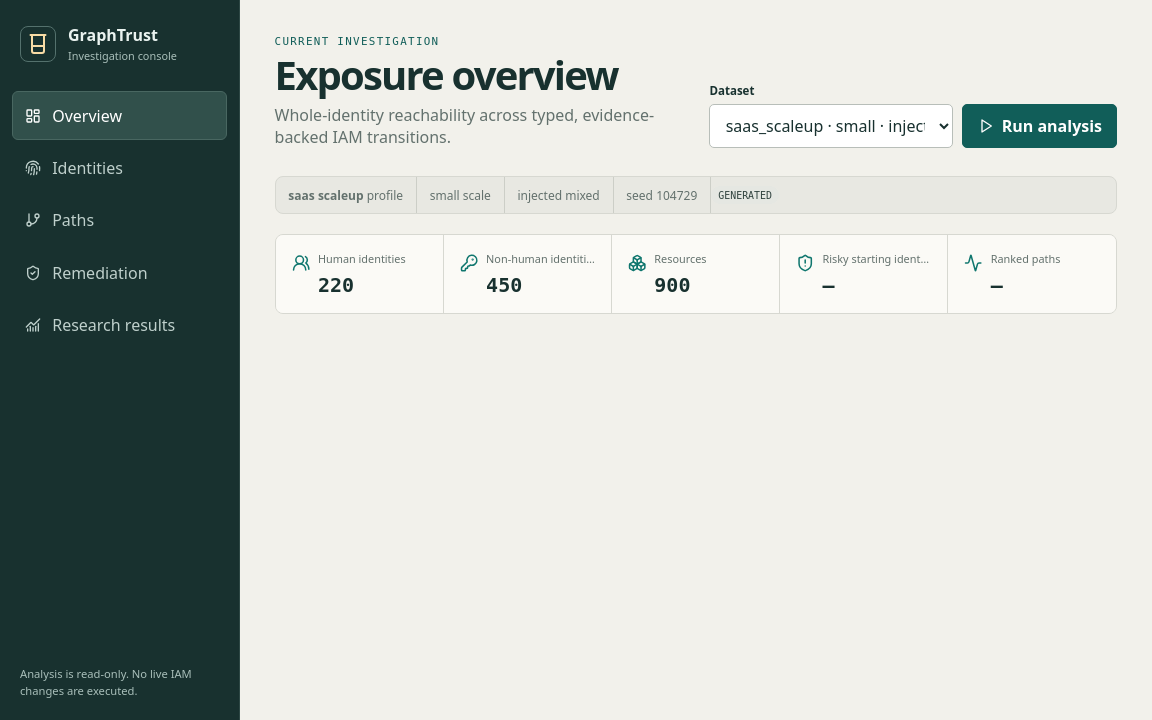
it: research results exposes a truthful empty state
Check: the heading "Exposure overview" is shown, box [274,47,618,102]
Click the button "Research results". click: (120, 325)
box: [12,301,227,349]
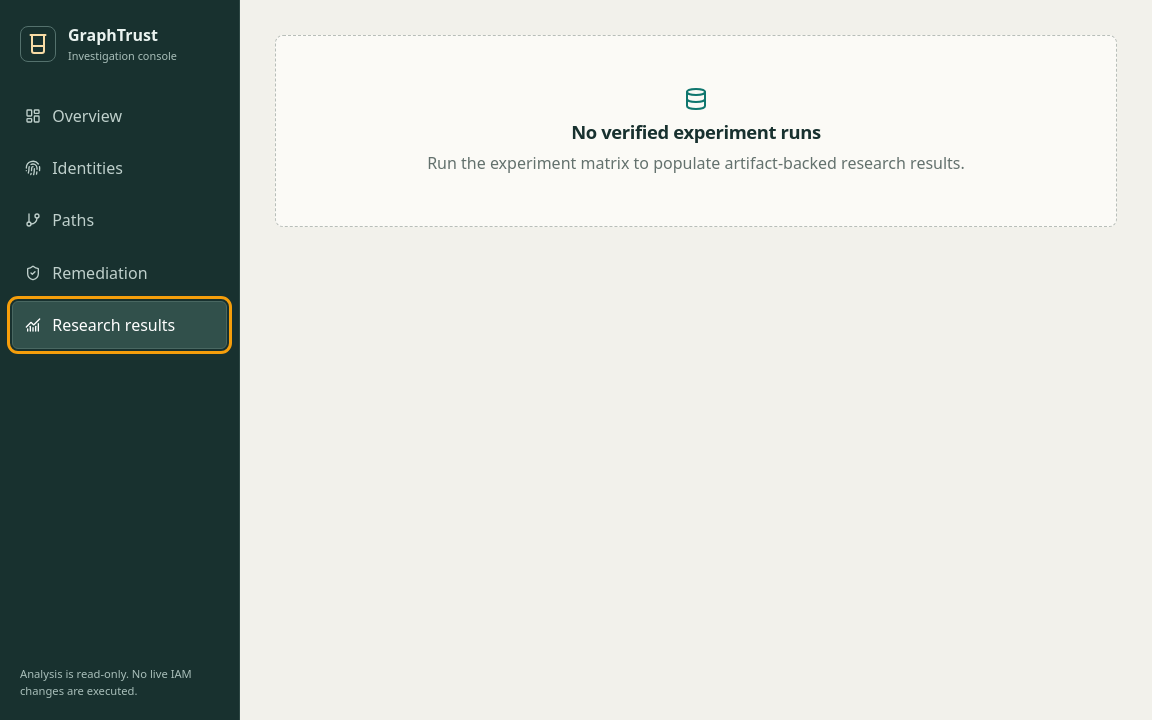
Check: the heading "No verified experiment runs" is shown, box [571,119,821,144]
